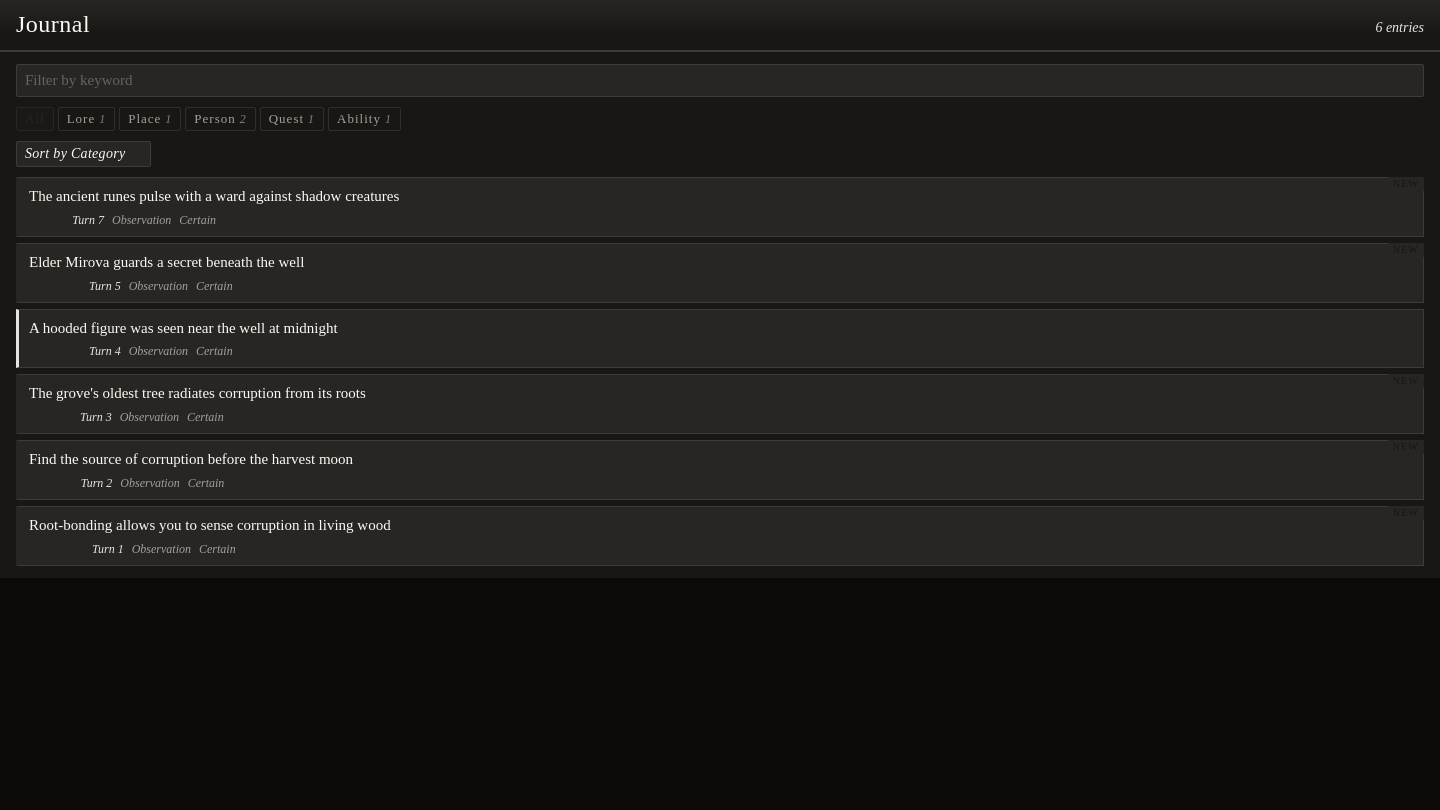
Test: AC-9: Keyword filter › filters entries to those whose content contains the keyword (case-insensitive)
Type "corruption" into the field with test id "keyword-filter". click: (720, 81)
box: [16,64,1424,97]
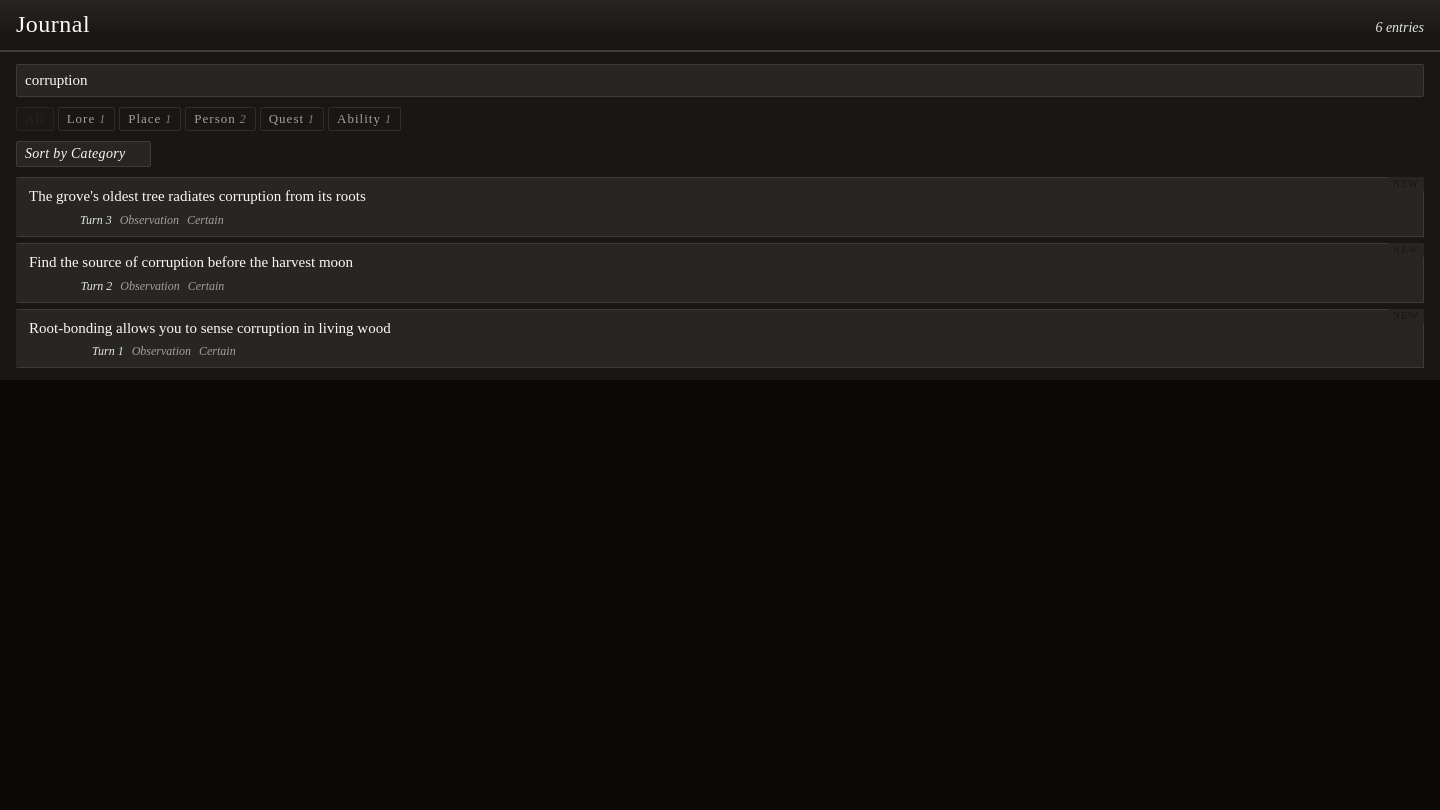
Result: the number of elements with test id "journal-entry" is 3 at [16,177,1424,237]; [16,243,1424,303]; [16,308,1424,368]
Result: the text "Elder Mirova" is gone
